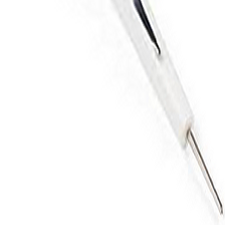Screwdriver: (99, 1, 225, 219)
